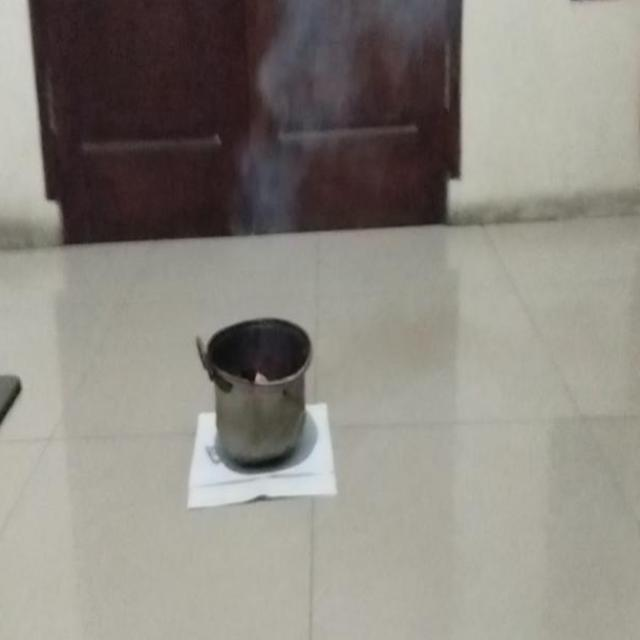fire: (265, 0, 448, 116), (228, 65, 347, 230)
